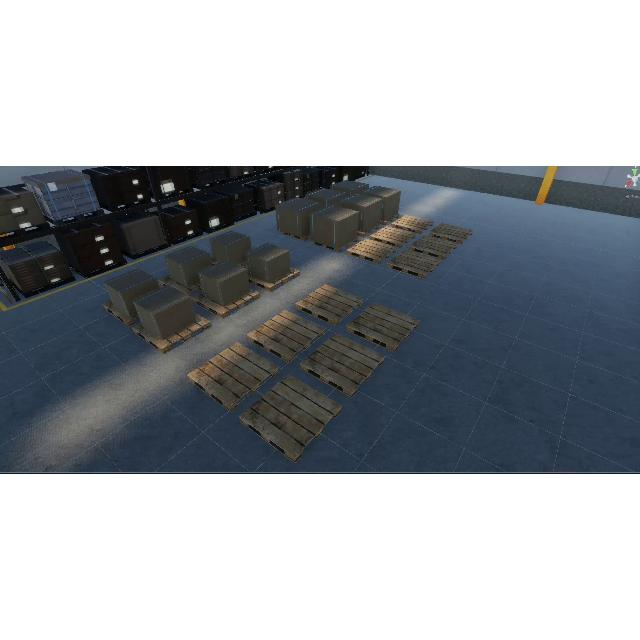wooden_pallet: (239, 375, 342, 464), (187, 342, 279, 411), (299, 334, 386, 399), (247, 310, 326, 362), (346, 303, 419, 353), (131, 313, 211, 354), (191, 289, 261, 319)
